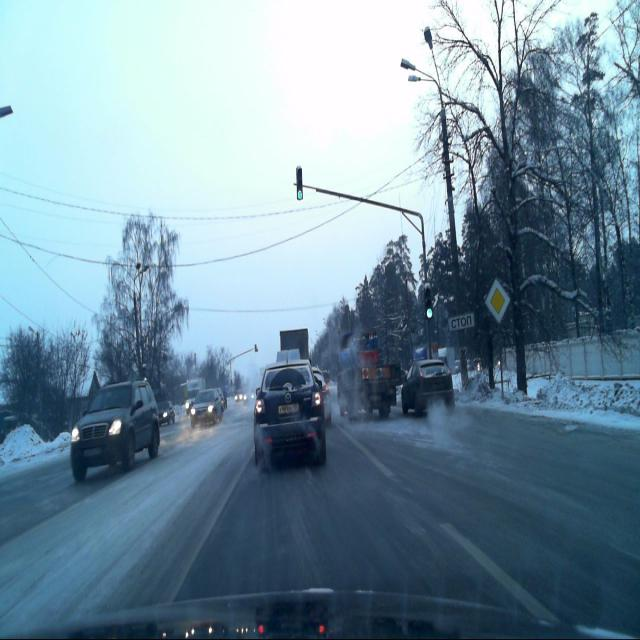object: (497, 322, 504, 402)
road sign: (486, 278, 509, 322), (448, 313, 474, 333)
